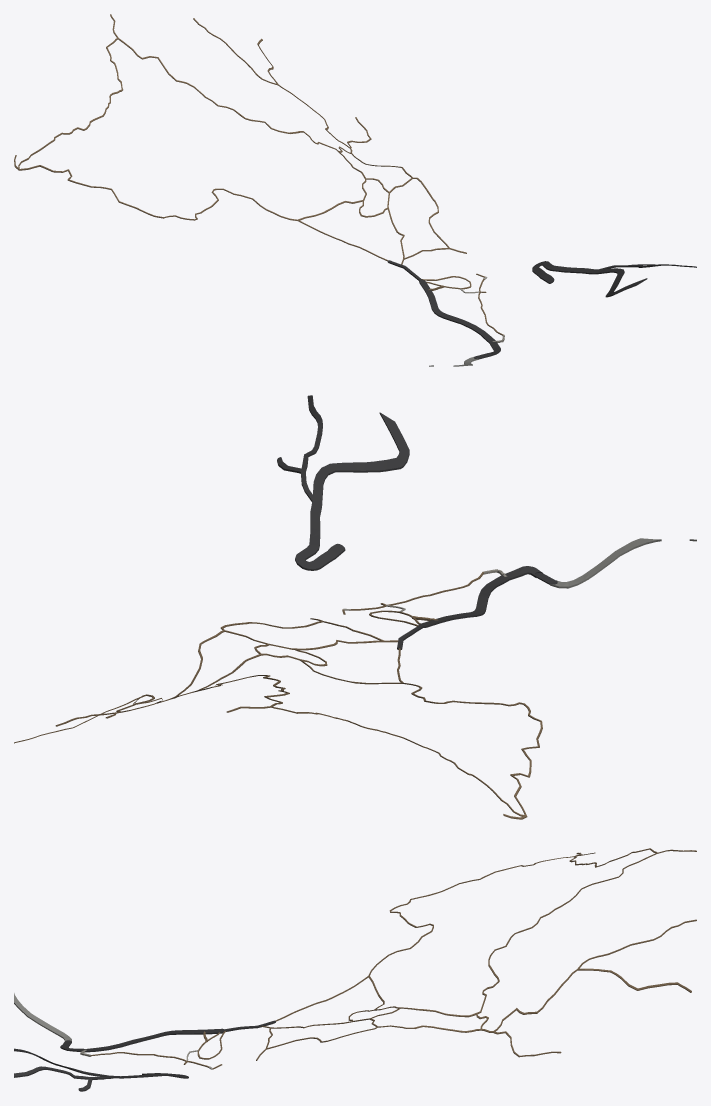
The picture shows the model from 3 angles, top to bottom: view 1: azimuth 30°, elevation 25°; view 2: azimuth 150°, elevation 25°; view 3: azimuth 270°, elevation 25°; orthographic projection. The views are drawn at different scales.
Bounding box in the file's own units: 435 × 146 × 583.
